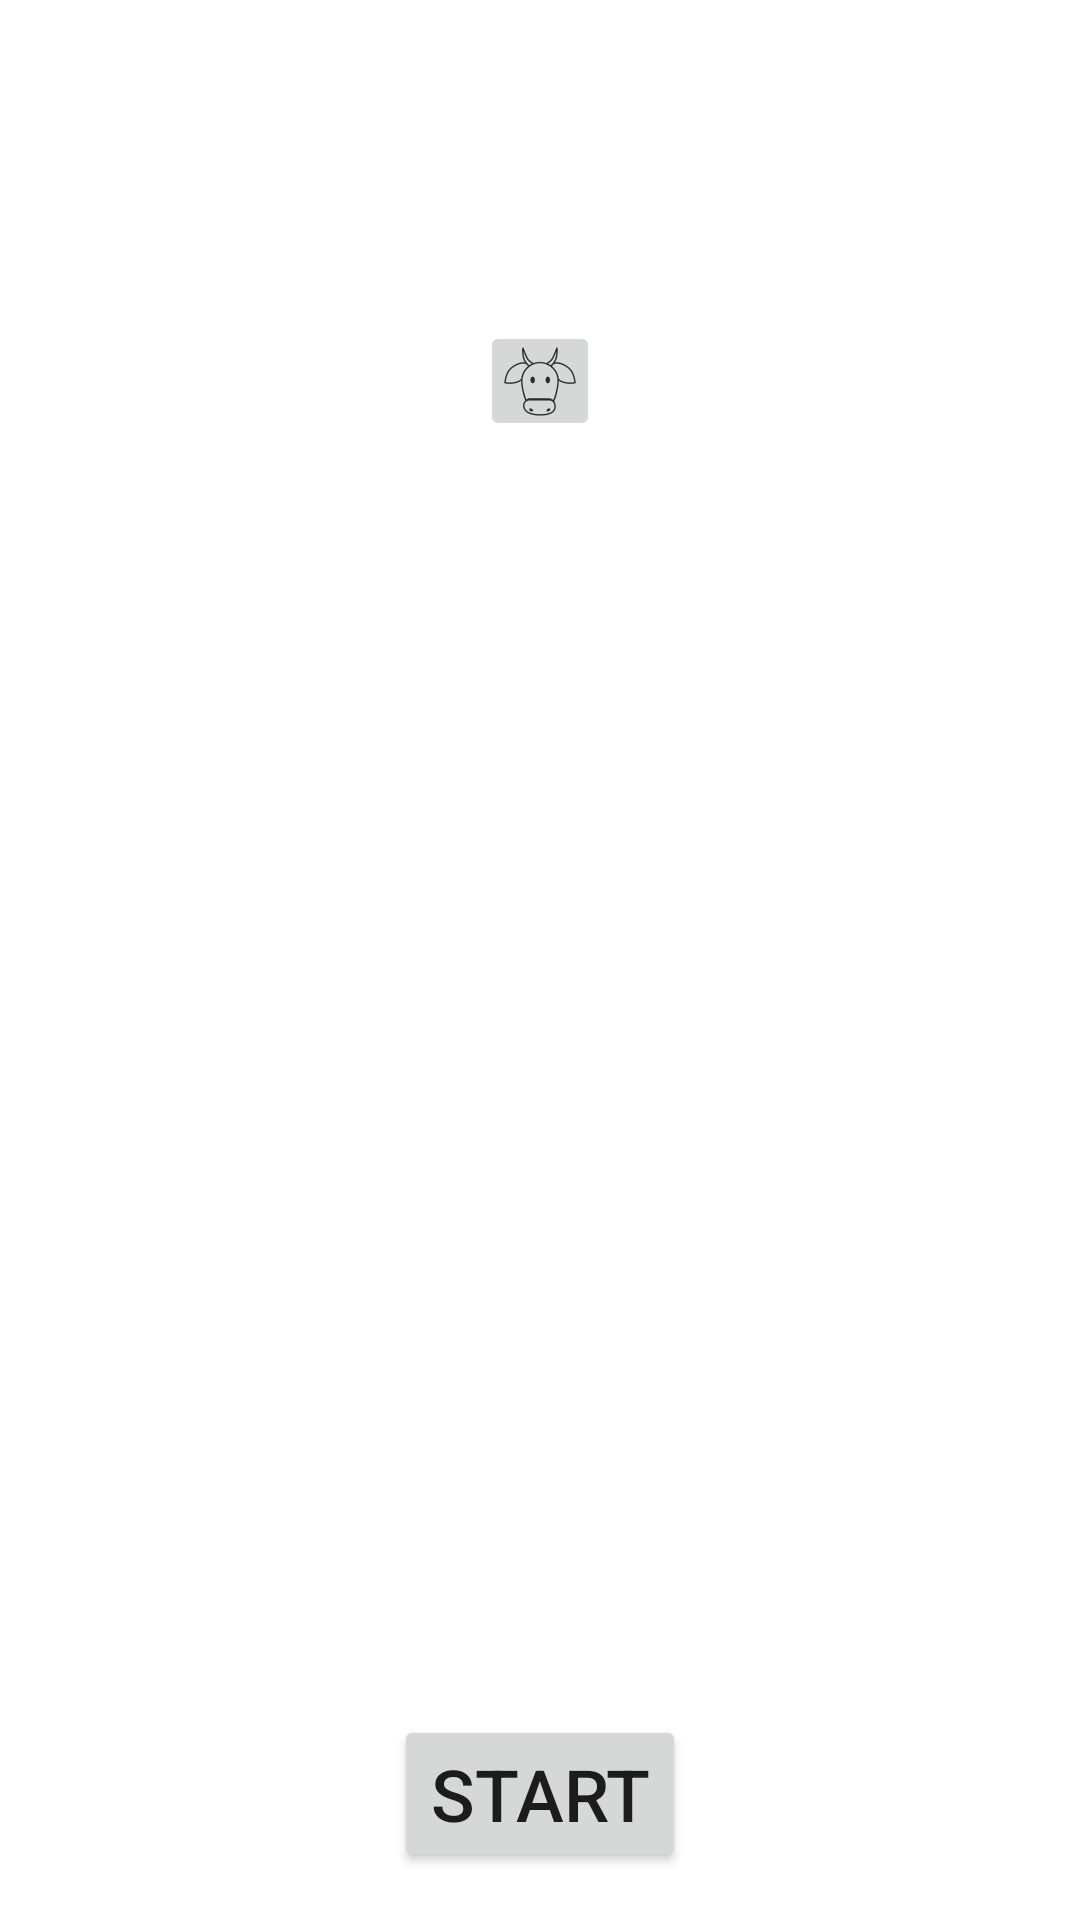

Icons on this 1080*1920 Android screen, each with the point to tap as (x=x, y=y):
cow: (x=540, y=381)
